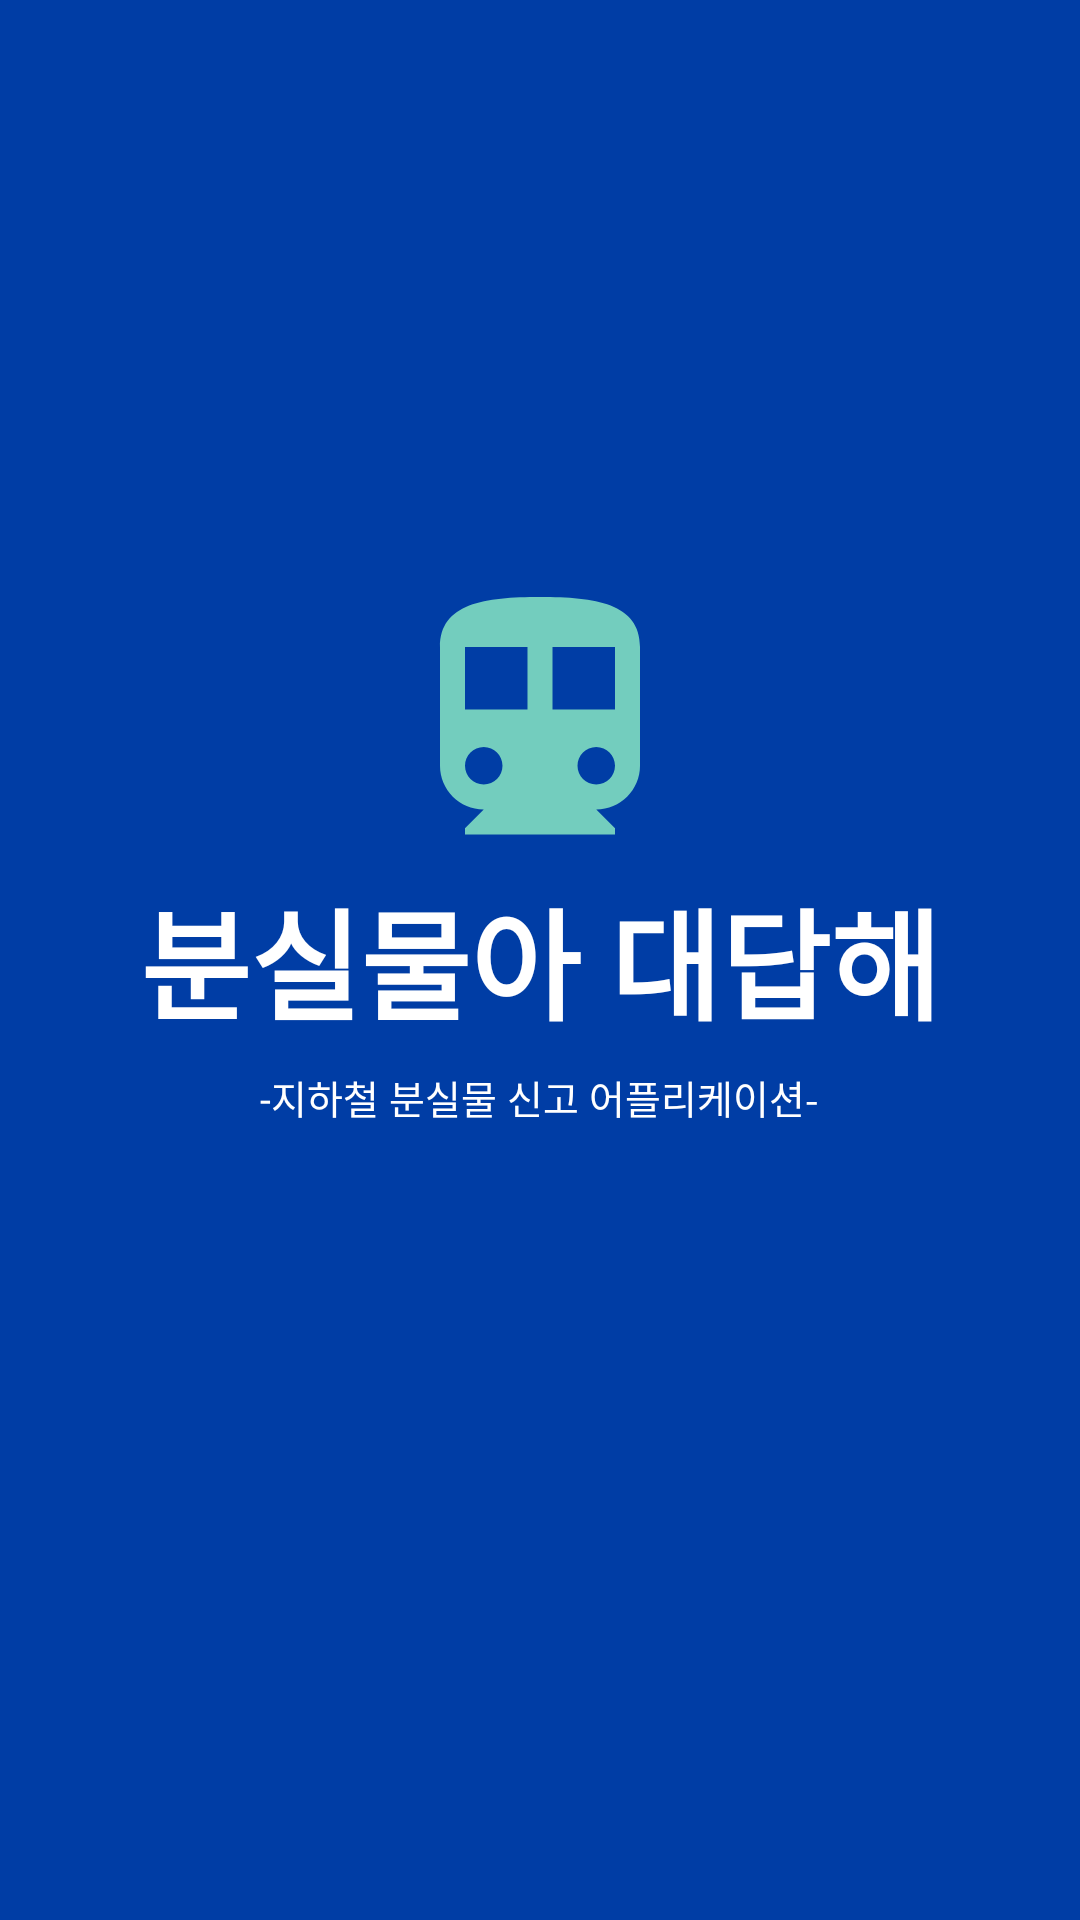

Icon bounding boxes for this 1080px x 1920px phone screenshot, format (x1, y1, x2, y2):
directions subway: (440, 597, 640, 835)
